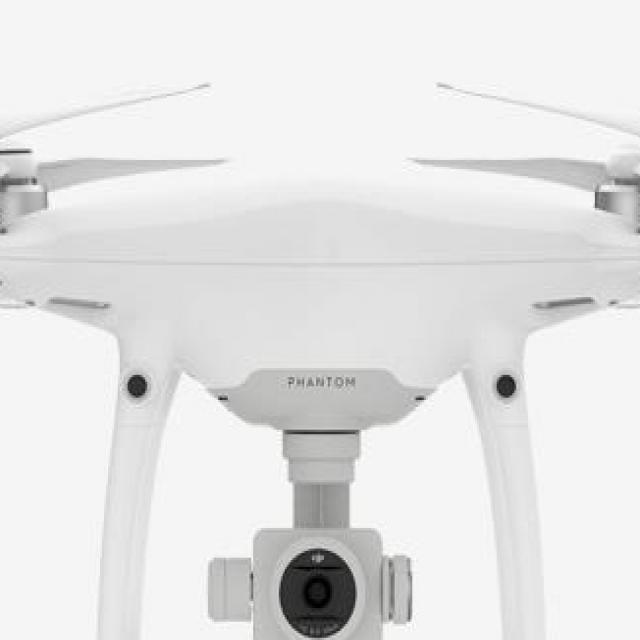drone: (0, 32, 640, 629)
